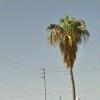Palm tree: (43, 12, 91, 100)
